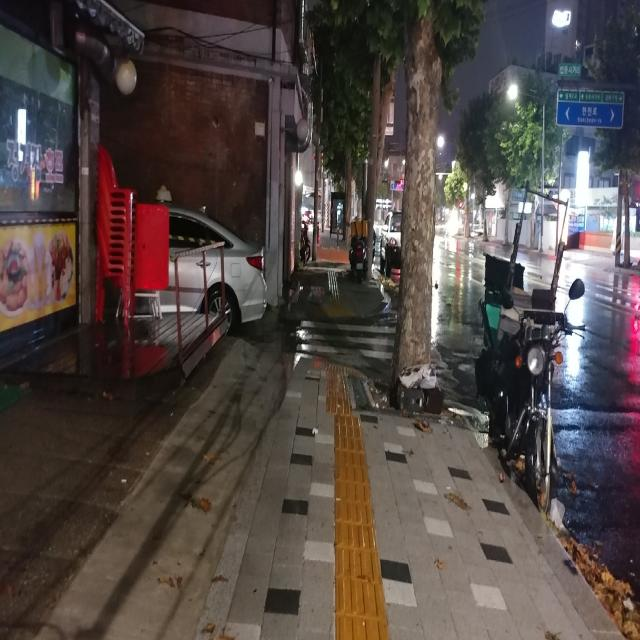횡단보도: (296, 320, 396, 358)
